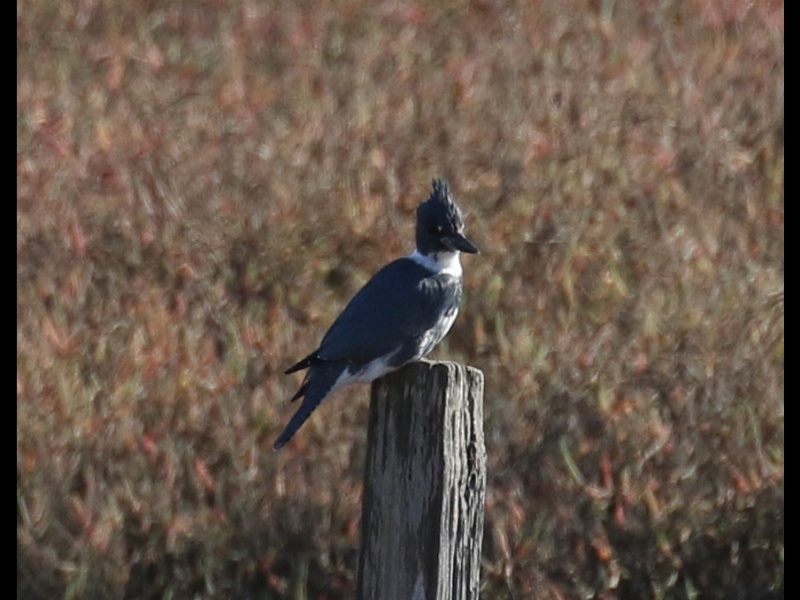kingfisher: (263, 180, 479, 451)
